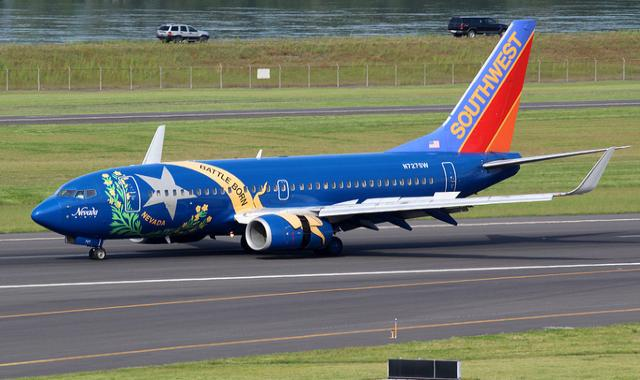car: (442, 8, 525, 42), (152, 22, 215, 46)
